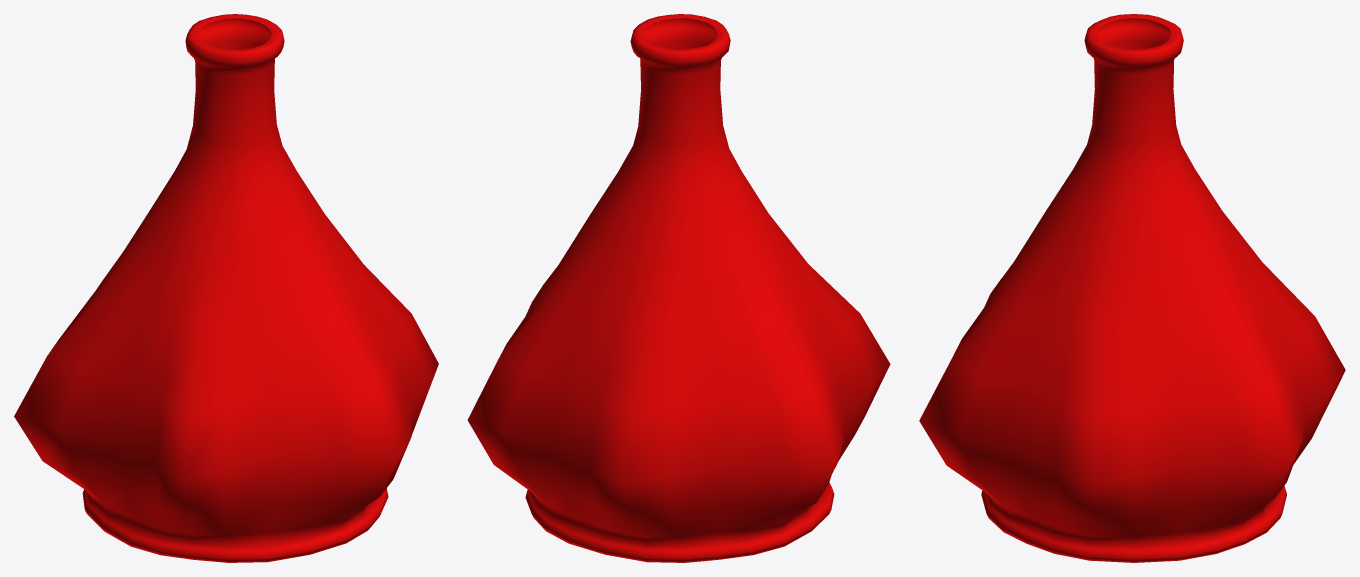
The model's file is potion1.fbx.
3 views of the same model, side by side, from view 1: azimuth 30°, elevation 25°; view 2: azimuth 150°, elevation 25°; view 3: azimuth 270°, elevation 25° (orthographic).
Parts seen in each view (by area): view 1: pCube3; view 2: pCube3; view 3: pCube3.
Part boxes in pixels (x1,y1,x2,y2): pCube3: (14, 14, 438, 562); pCube3: (467, 14, 890, 562); pCube3: (919, 14, 1345, 562).
Size of the model in its own units: 4.87 by 5.83 by 4.83.
